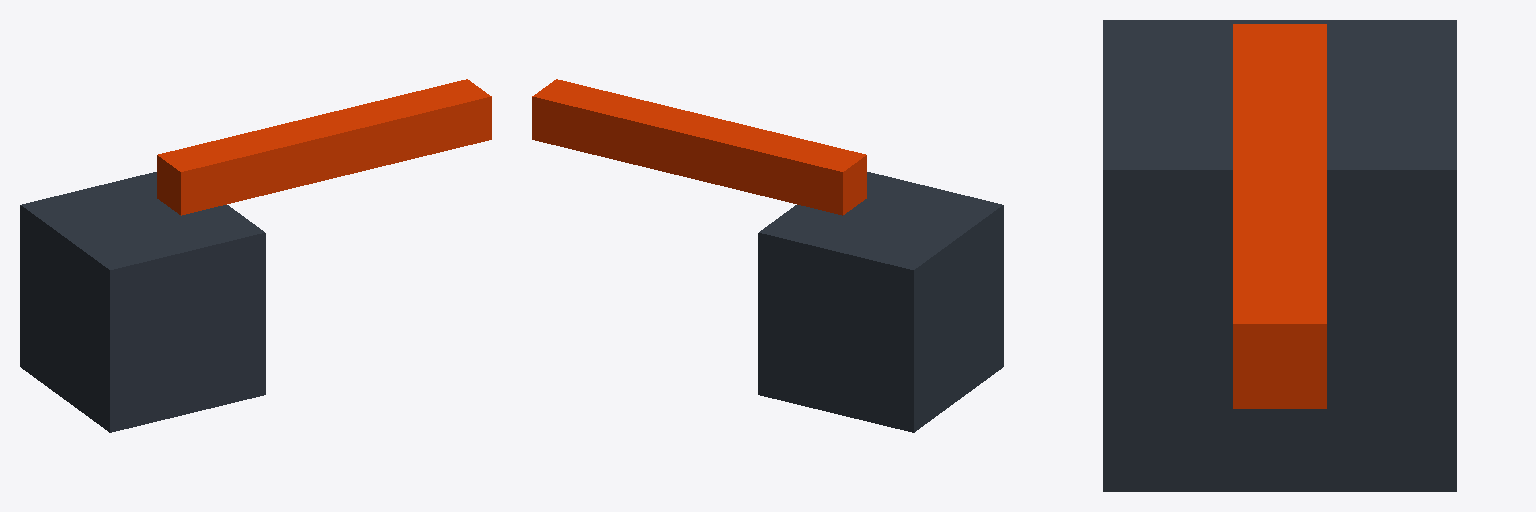
The robot description file, URDF, robot "one_joint_arm":
<?xml version="1.0"?>
<!-- SI units. World fixation is authored in the Isaac Sim scene, not in URDF. -->
<robot name="one_joint_arm">
  <material name="base_gray"><color rgba="0.25 0.28 0.32 1"/></material>
  <material name="arm_orange"><color rgba="0.9 0.3 0.05 1"/></material>
  <link name="base_link">
    <inertial>
      <origin xyz="0 0 0.15" rpy="0 0 0"/>
      <mass value="4"/>
      <inertia ixx="0.06" ixy="0" ixz="0" iyy="0.06" iyz="0" izz="0.06"/>
    </inertial>
    <visual><origin xyz="0 0 0.15"/><geometry><box size="0.3 0.3 0.3"/></geometry><material name="base_gray"/></visual>
    <collision><origin xyz="0 0 0.15"/><geometry><box size="0.3 0.3 0.3"/></geometry></collision>
  </link>
  <link name="arm_link">
    <inertial>
      <origin xyz="0.35 0 0" rpy="0 0 0"/>
      <mass value="1"/>
      <inertia ixx="0.0010666667" ixy="0" ixz="0" iyy="0.0305333333" iyz="0" izz="0.0305333333"/>
    </inertial>
    <visual><origin xyz="0.35 0 0"/><geometry><box size="0.6 0.08 0.08"/></geometry><material name="arm_orange"/></visual>
    <collision><origin xyz="0.35 0 0"/><geometry><box size="0.6 0.08 0.08"/></geometry></collision>
  </link>
  <joint name="shoulder" type="revolute">
    <parent link="base_link"/><child link="arm_link"/>
    <origin xyz="0 0 0.35" rpy="0 0 0"/><axis xyz="0 0 1"/>
    <limit lower="-1.57079632679" upper="1.57079632679" effort="20" velocity="1"/>
    <dynamics damping="0.1" friction="0"/>
  </joint>
</robot>

--- Render facts (derived) ---
Views: 3 orthographic renders of the robot side by side, from view 1: azimuth 30°, elevation 25°; view 2: azimuth 150°, elevation 25°; view 3: azimuth 270°, elevation 25°.
Robot: one_joint_arm — 2 links, 1 joints (1 revolute); root link base_link; default pose: every joint at zero.
Visible links, largest first — view 1: base_link, arm_link; view 2: base_link, arm_link; view 3: base_link, arm_link.
Boxes of the visible links, x1,y1,x2,y2 form: base_link: (20, 172, 265, 432); arm_link: (157, 79, 491, 215); base_link: (758, 172, 1003, 432); arm_link: (532, 79, 866, 215); base_link: (1103, 20, 1456, 491); arm_link: (1233, 24, 1326, 408).
Size in the robot's own frame: 0.8 by 0.3 by 0.39 metres.
Geometry: primitives only (box / cylinder / sphere), no mesh files.
